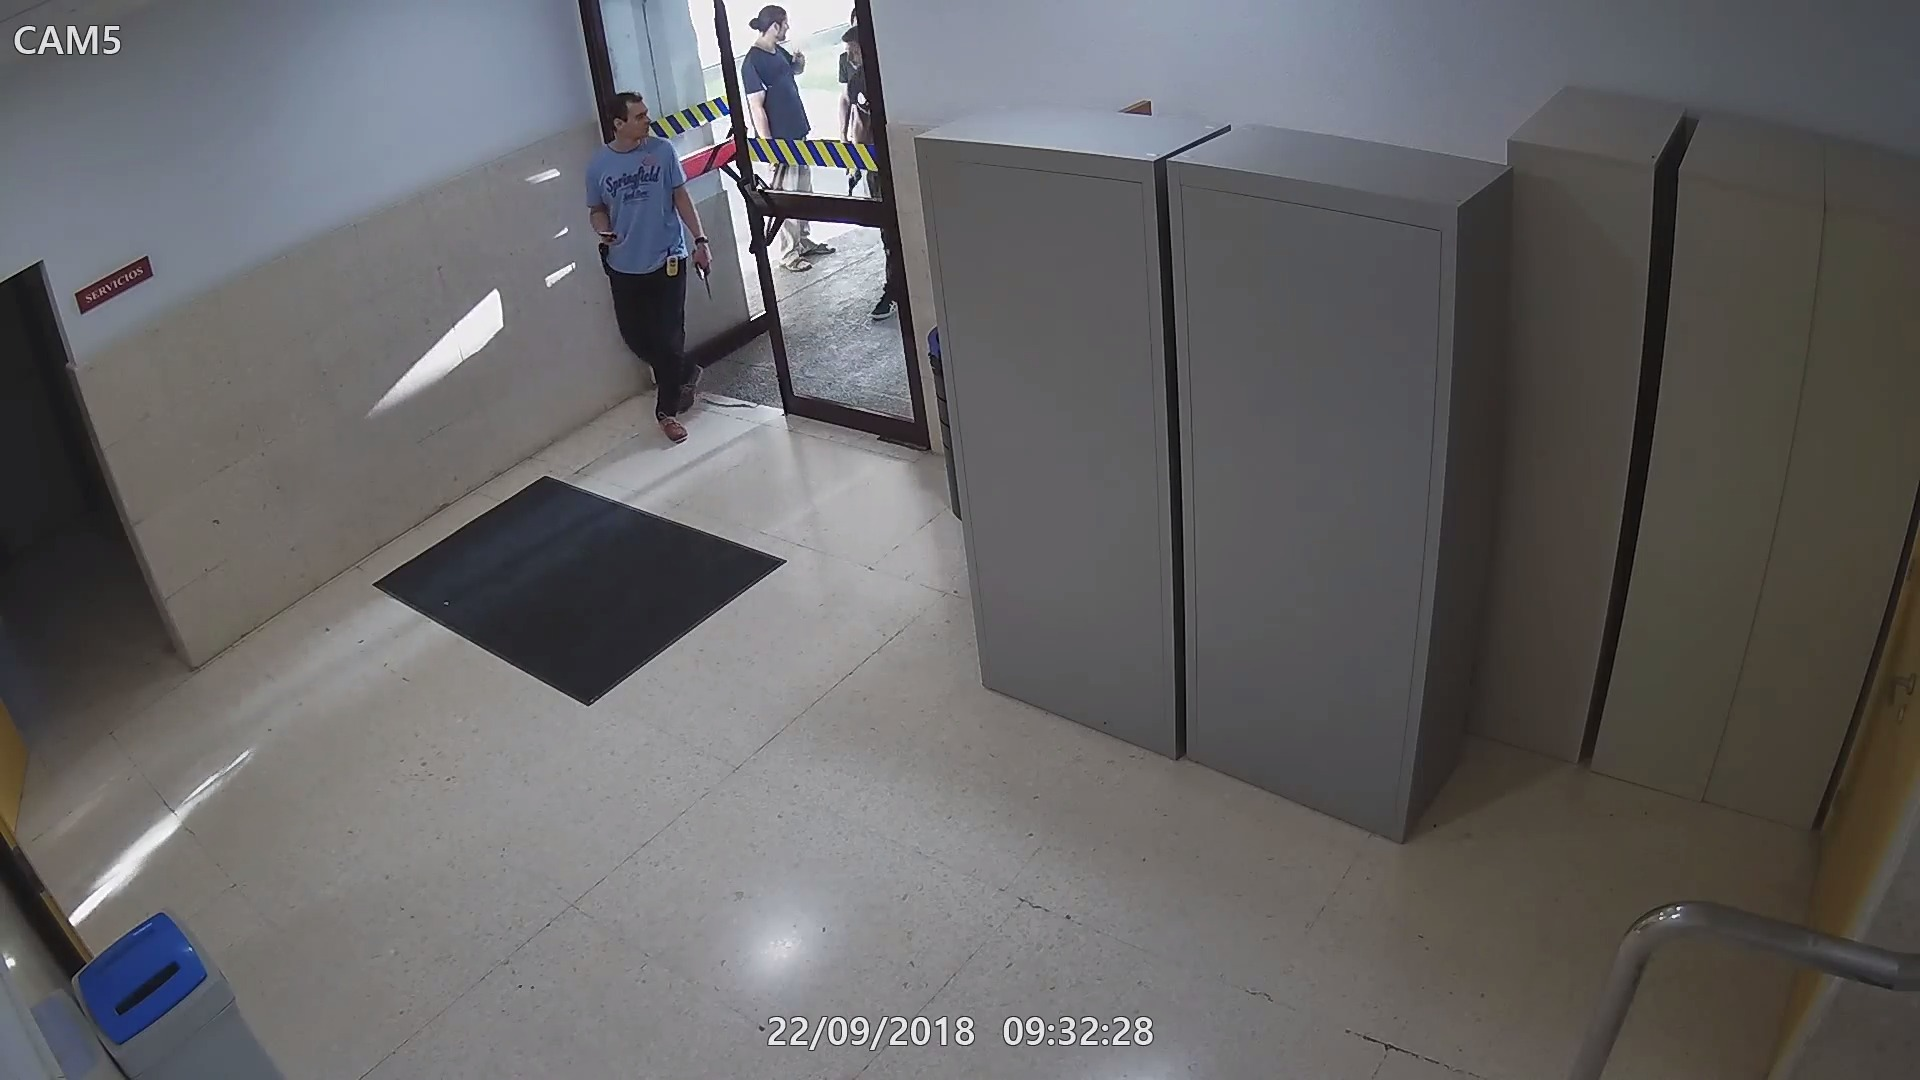knife: (692, 235, 719, 305)
pistol: (694, 235, 720, 301)
